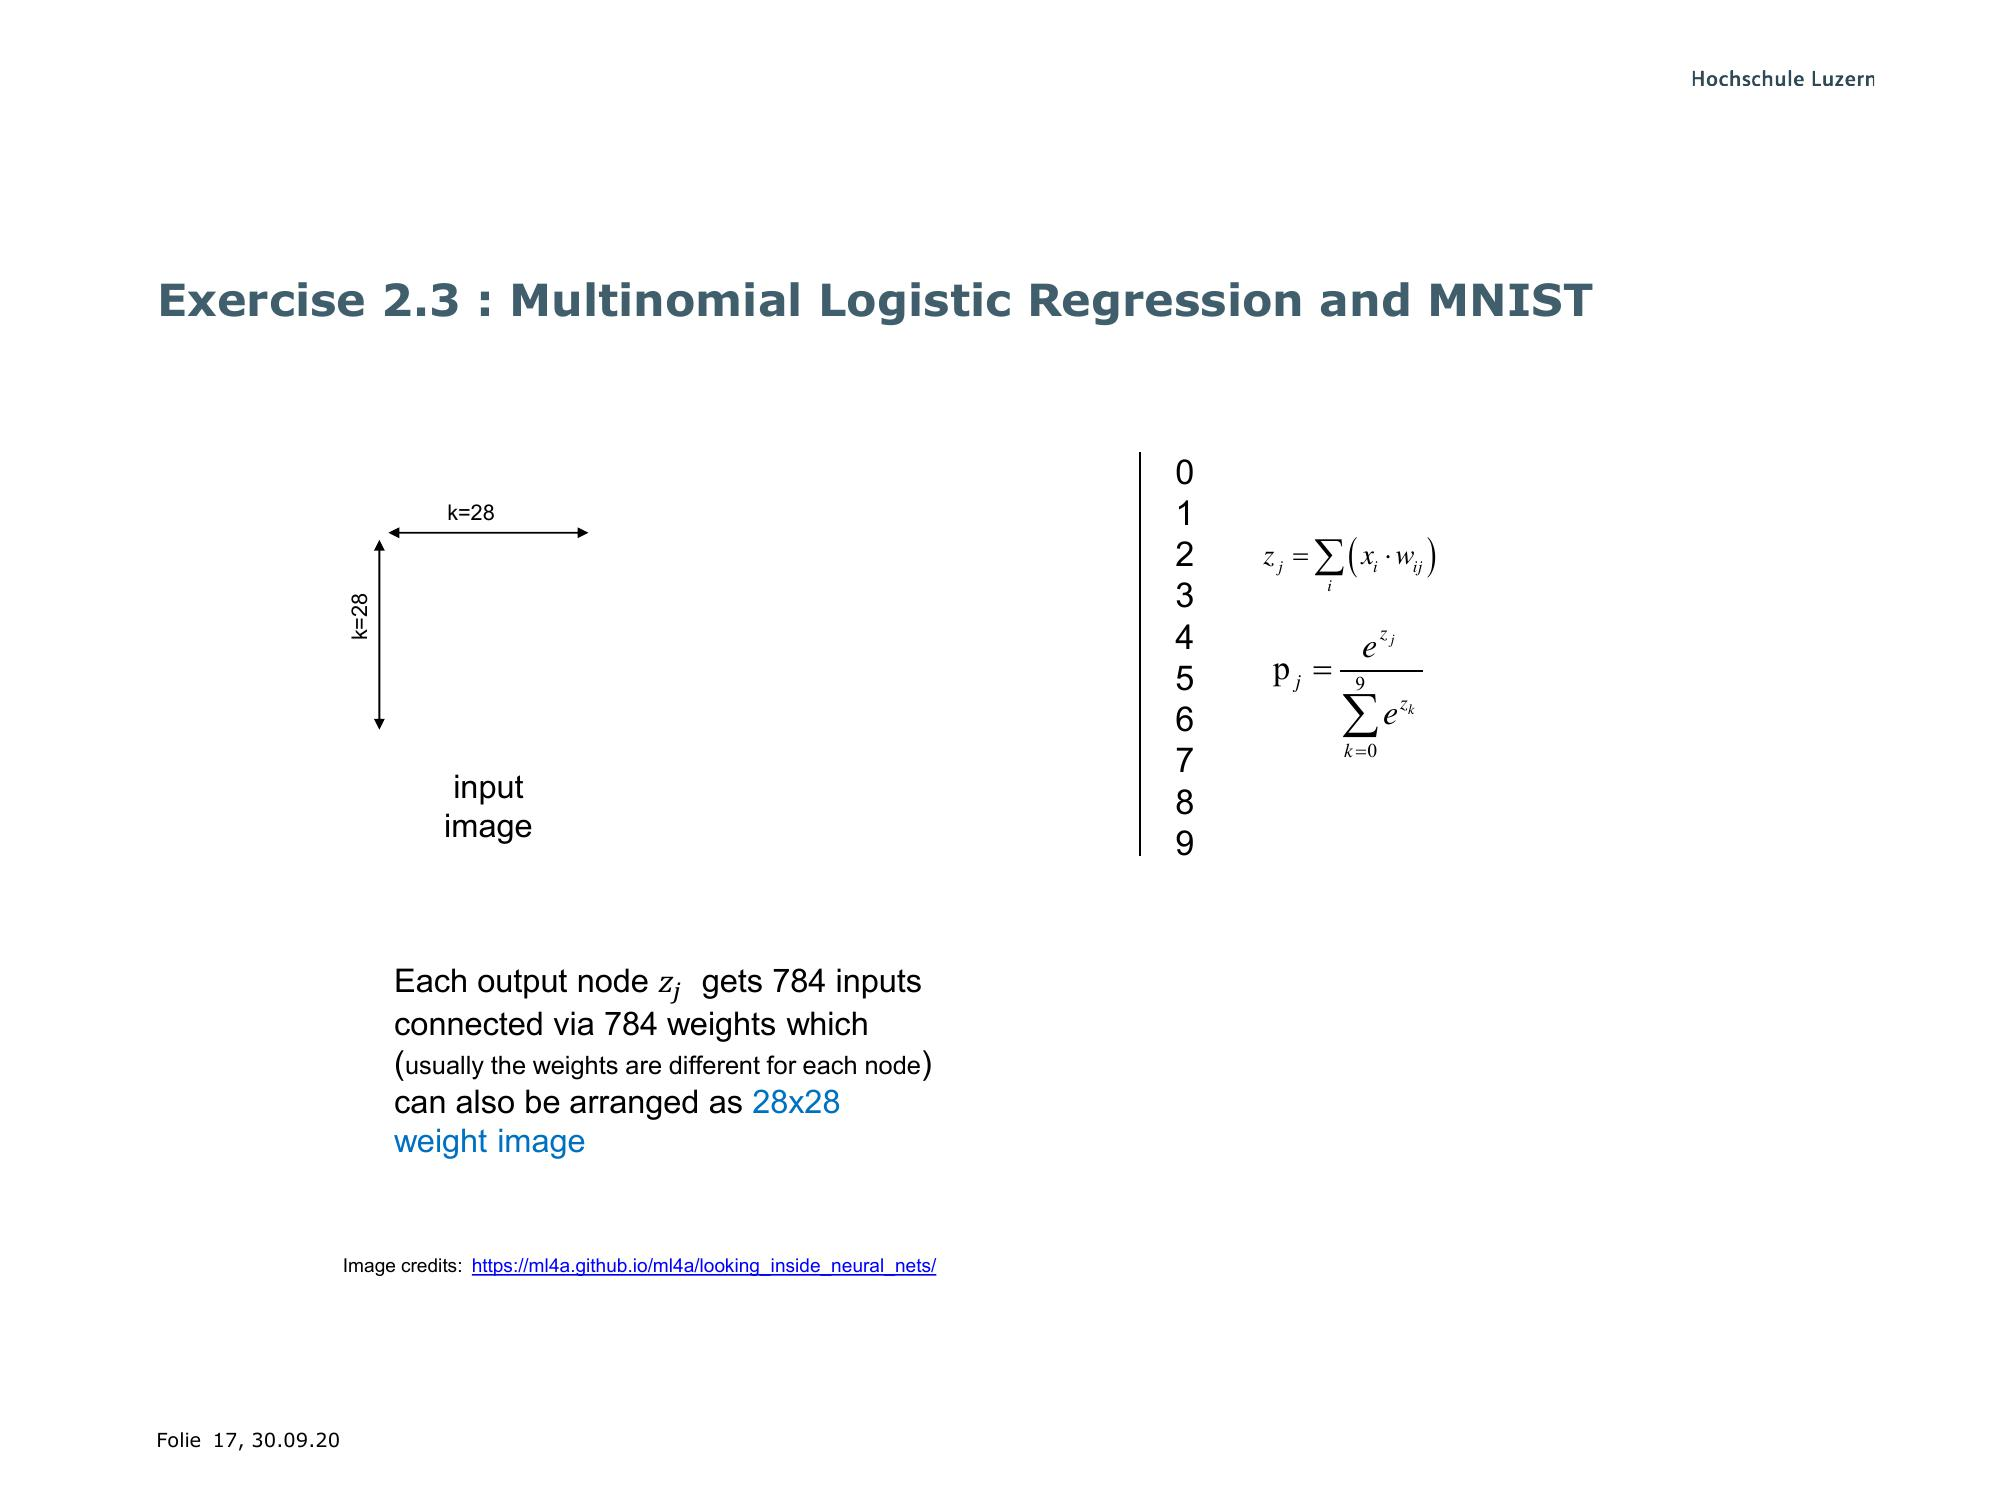Title: (146, 265, 1602, 343)
